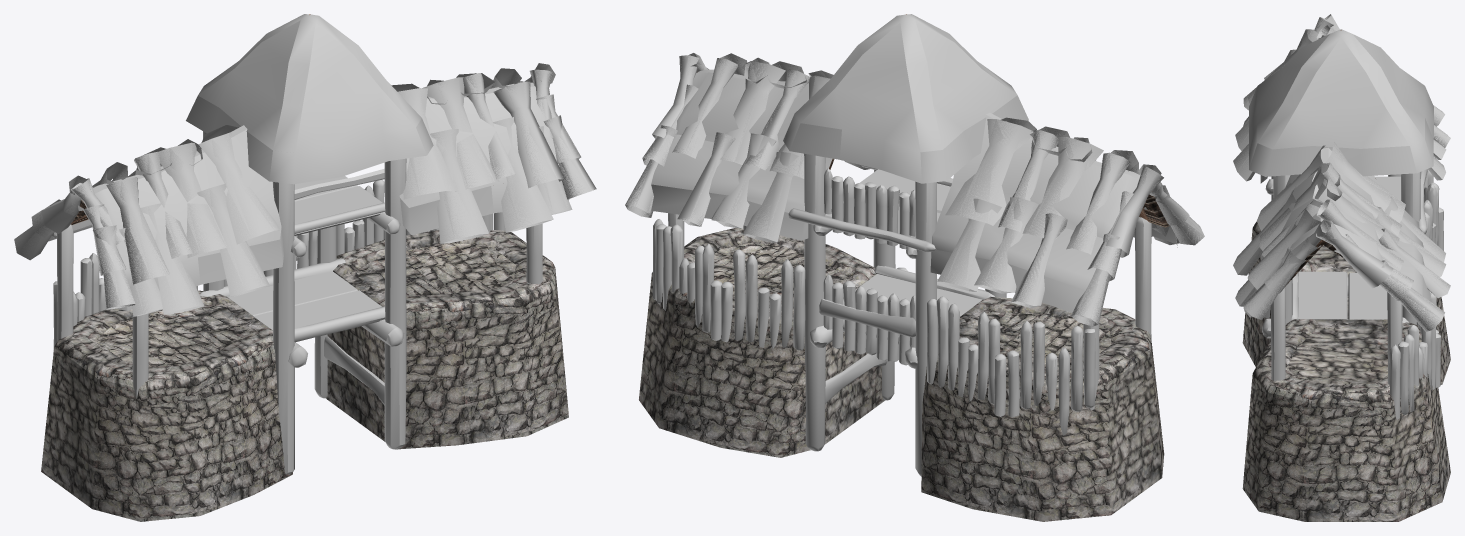
File: TowerGate_1.fbx
3 renders of one model, left to right at view 1: azimuth 30°, elevation 25°; view 2: azimuth 150°, elevation 25°; view 3: azimuth 270°, elevation 25°, orthographic. The views are drawn at different scales.
Visible parts, largest first — view 1: Stone, Alphas, Wood; view 2: Alphas, Stone, Wood; view 3: Alphas, Stone, Wood, Roof.
Boxes of the visible parts, box(x1,y1,x2,y2) form: Stone: box(41, 230, 568, 521); Alphas: box(14, 14, 596, 316); Wood: box(52, 131, 542, 474); Alphas: box(625, 14, 1204, 326); Stone: box(639, 226, 1164, 521); Wood: box(652, 153, 1151, 476); Alphas: box(1233, 14, 1450, 331); Stone: box(1242, 221, 1450, 521); Wood: box(1262, 169, 1443, 419); Roof: box(1285, 30, 1375, 286).
Bounding box in the file's own units: 1914 × 1582 × 806.
